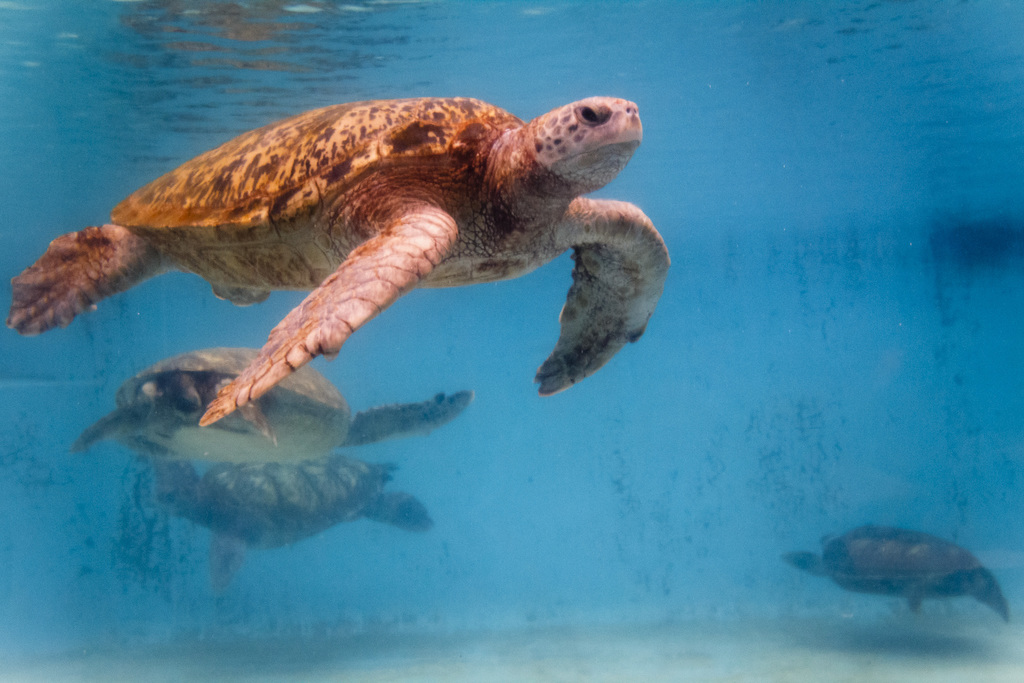Sea turtles: (5, 90, 675, 447), (71, 343, 473, 461), (146, 449, 433, 593), (777, 520, 1008, 627)
